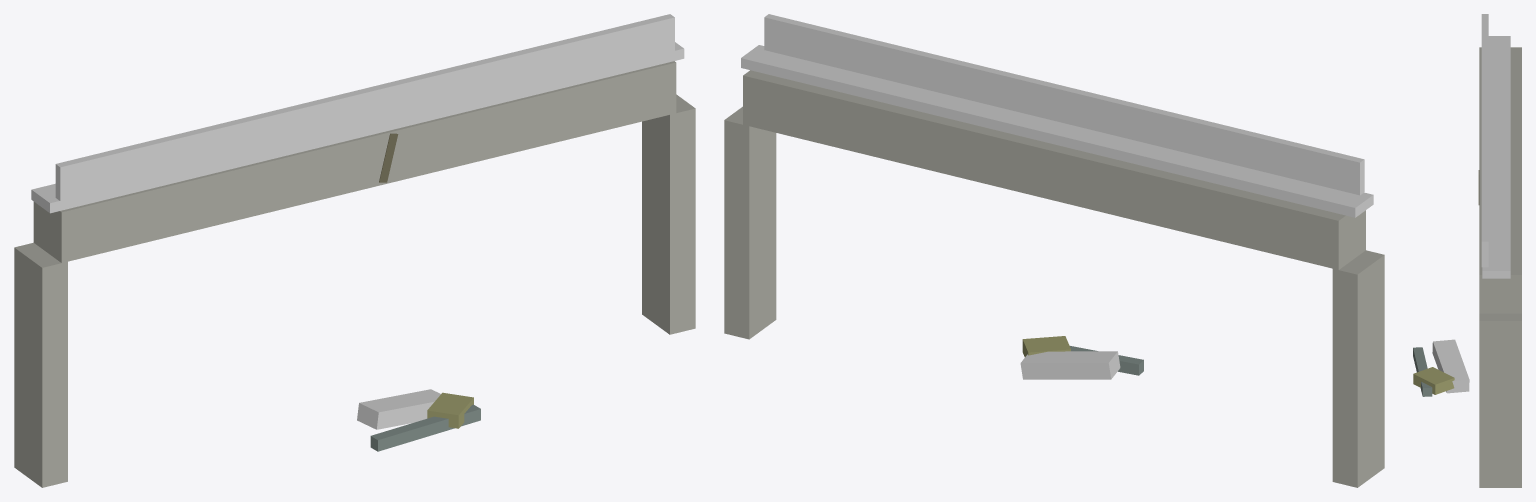
File: SM_MuroTrinchera_Boca_v3_Agrietado_LOD1.fbx
3 renders of one model, left to right at view 1: azimuth 30°, elevation 25°; view 2: azimuth 150°, elevation 25°; view 3: azimuth 270°, elevation 25°, orthographic. The views are drawn at different scales.
Visible parts, largest first — view 1: SM_muro_trinchera_v8_LOD1; view 2: SM_muro_trinchera_v8_LOD1; view 3: SM_muro_trinchera_v8_LOD1.
Part boxes in pixels (x1=…): SM_muro_trinchera_v8_LOD1: x1=14, y1=14, x2=695, y2=487; SM_muro_trinchera_v8_LOD1: x1=724, y1=14, x2=1384, y2=487; SM_muro_trinchera_v8_LOD1: x1=1413, y1=14, x2=1521, y2=487.
Size of the model in its own units: 20.2 by 9.49 by 3.84.
